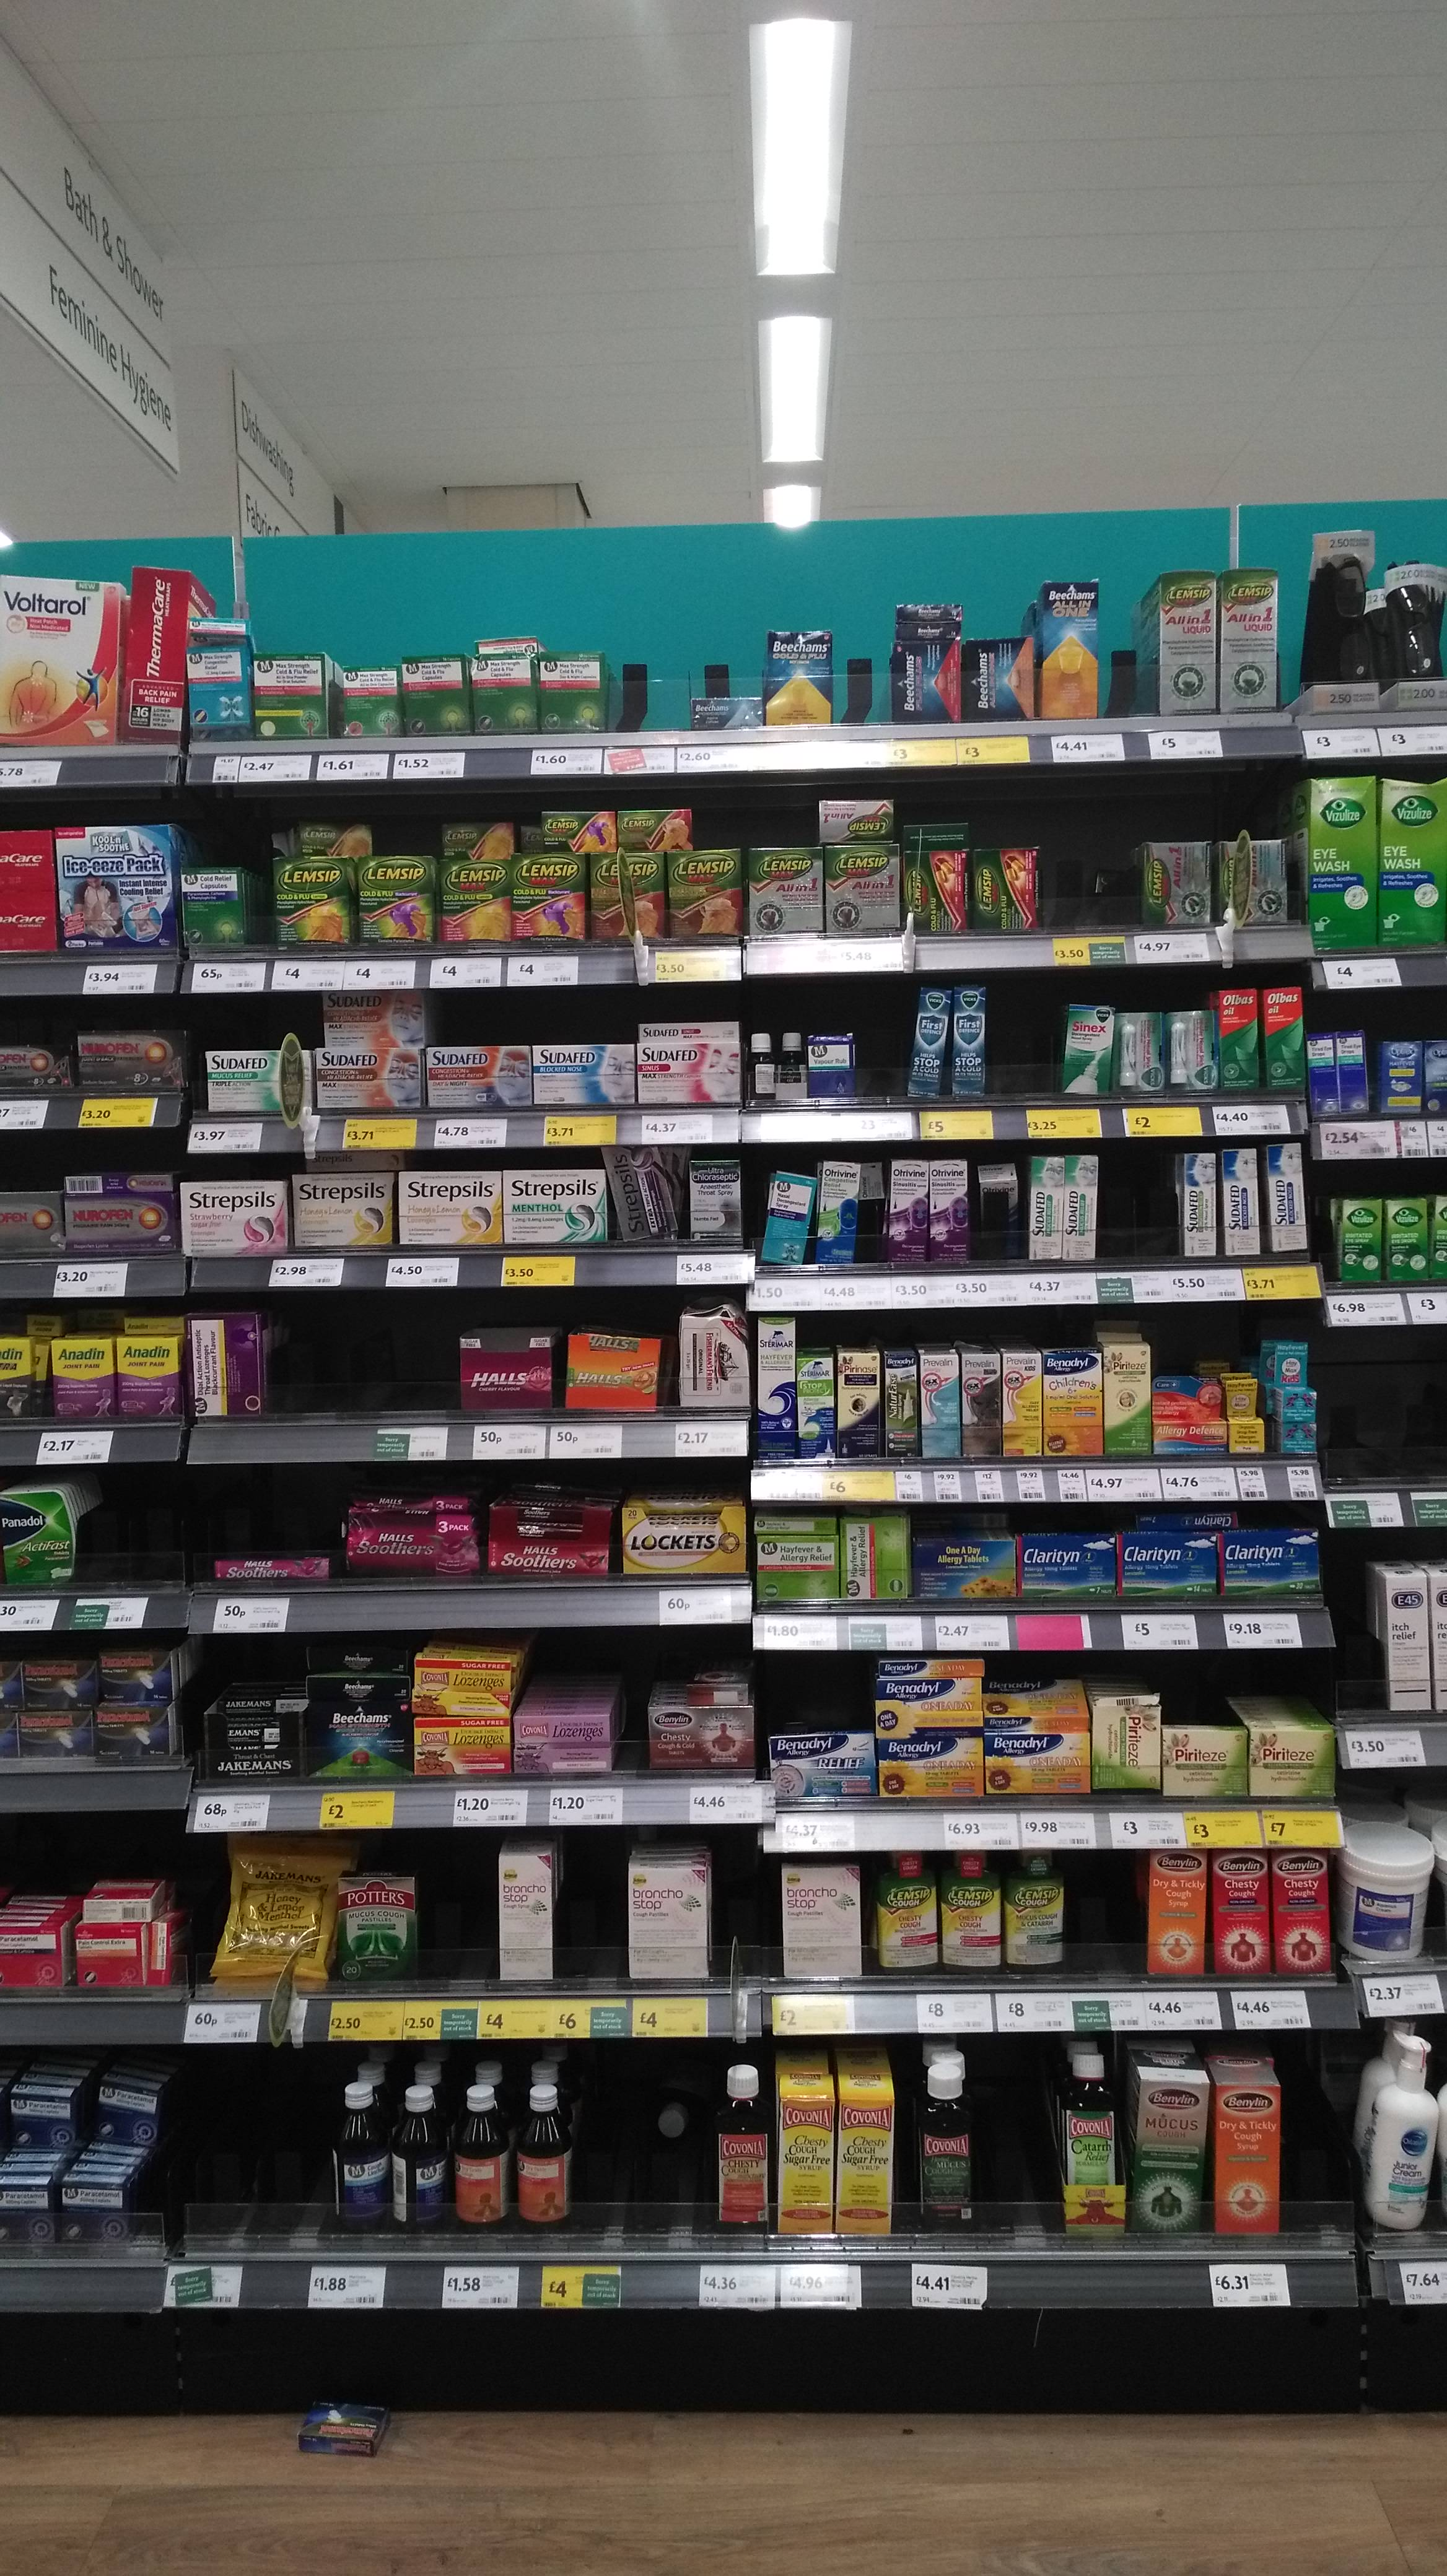Out-of-stock: (279, 1323, 462, 1453), (563, 1844, 624, 2035)
